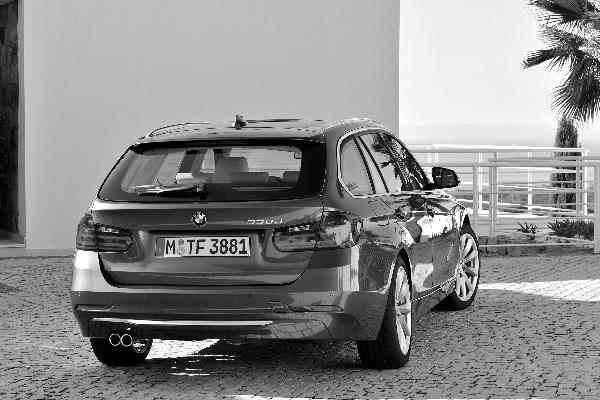car: (72, 118, 483, 371)
